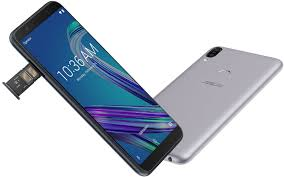asus: (6, 1, 185, 176)
